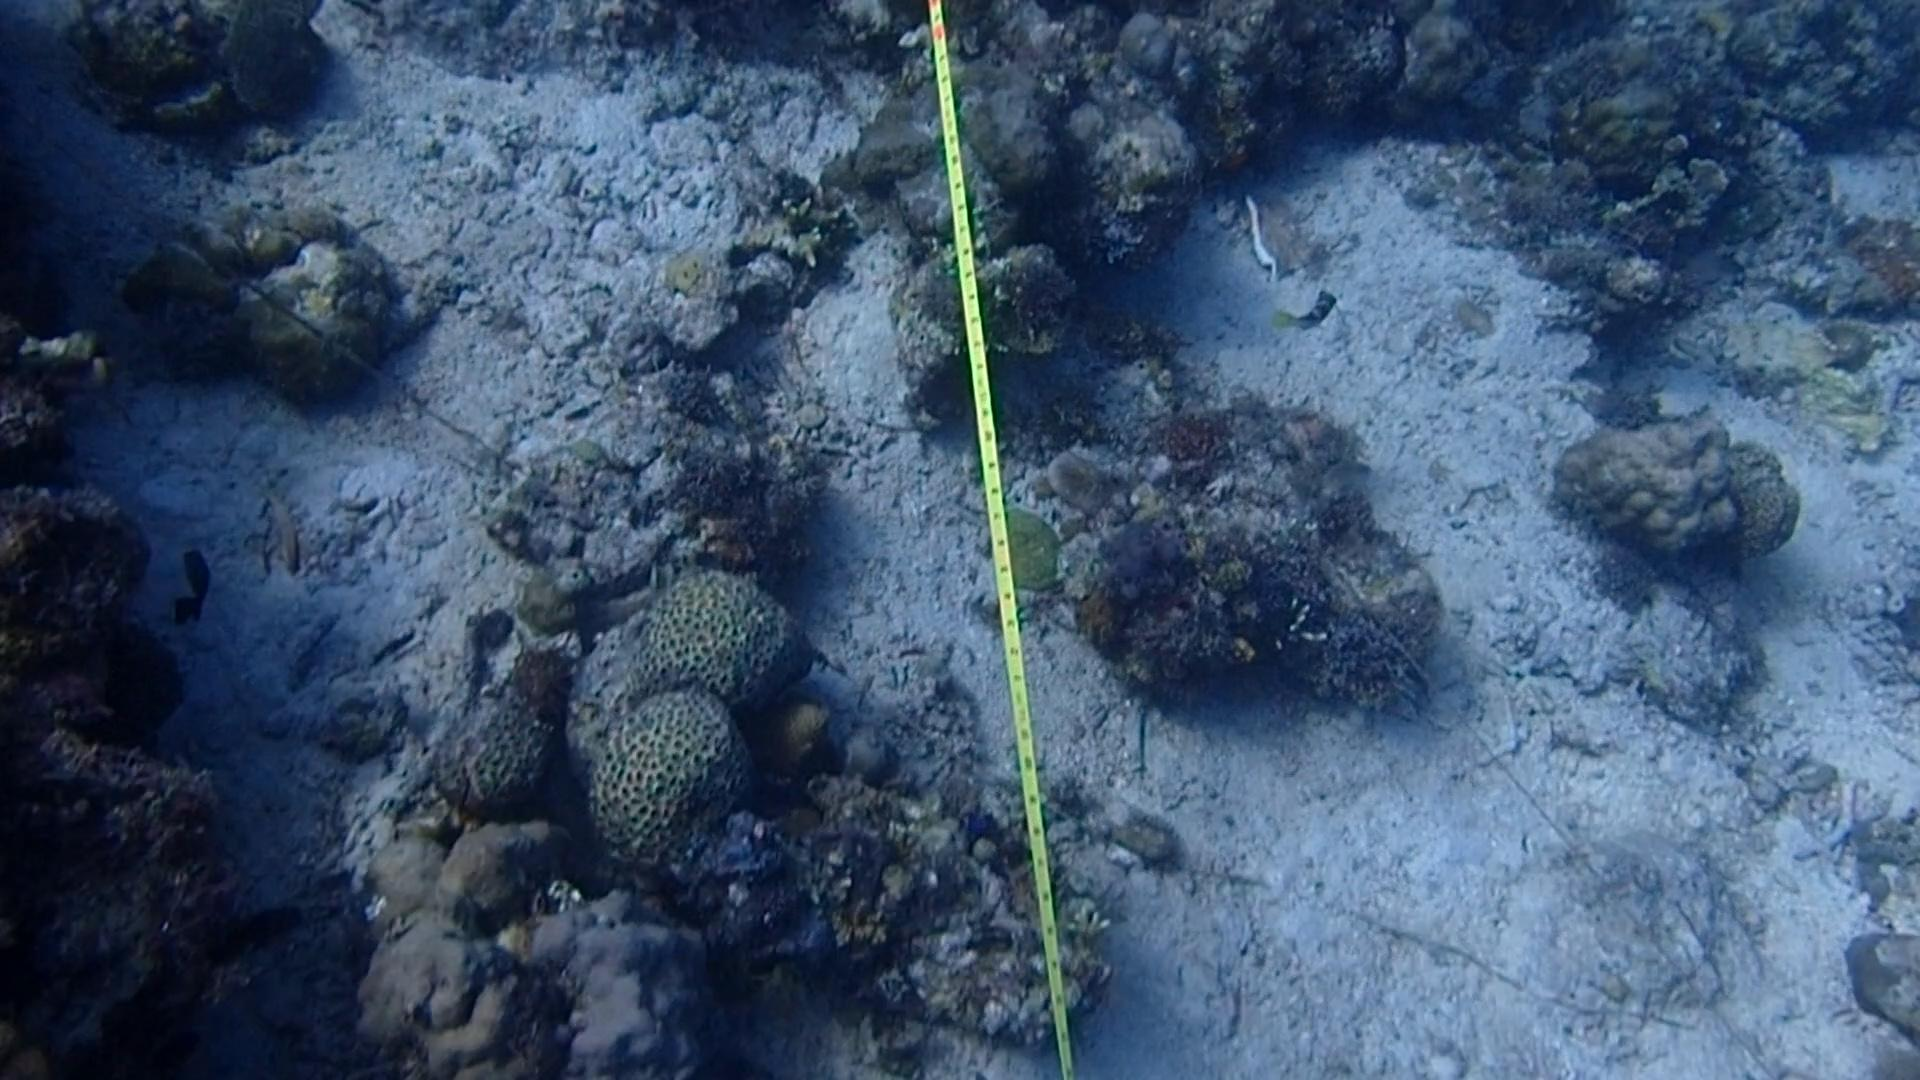Striped Fish: (1270, 284, 1345, 351)
